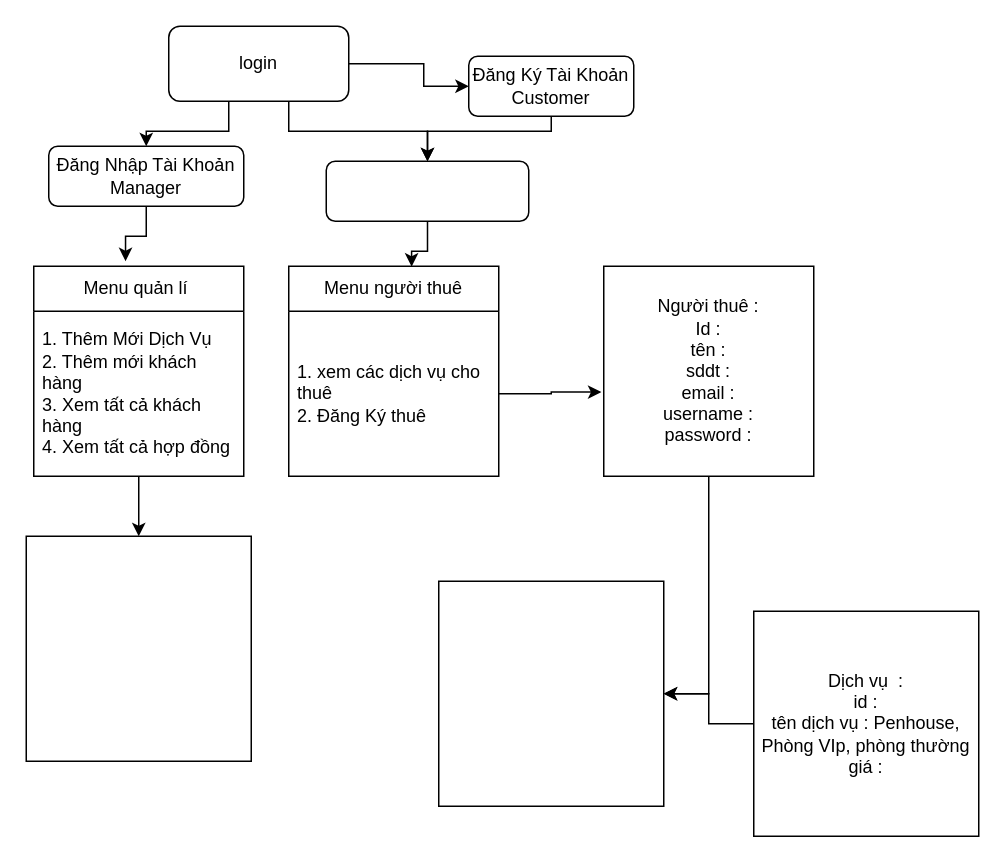
This 1005x863 diagram has some shape labels left out. The centre of each missing label's shape, as x and y in pixels:
hợp đồng : id : Ngày thuê :: the point at 550,693
Quản lý : Id : tên : sddt : email : username : password :: the point at 138,648
Đăng Nhập Tài Khoản Customer: the point at 427,190
